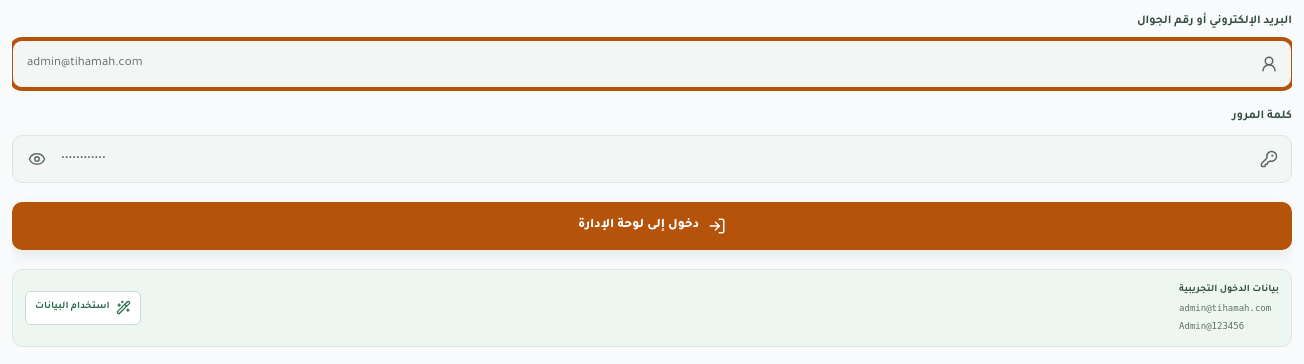
Test: LoginForm › loads fixture credentials and prevents duplicate pending submissions
The image size is (1304, 364).
Click the button "استخدام البيانات". click: (83, 308)
box: x1=25 y1=291 x2=140 y2=325
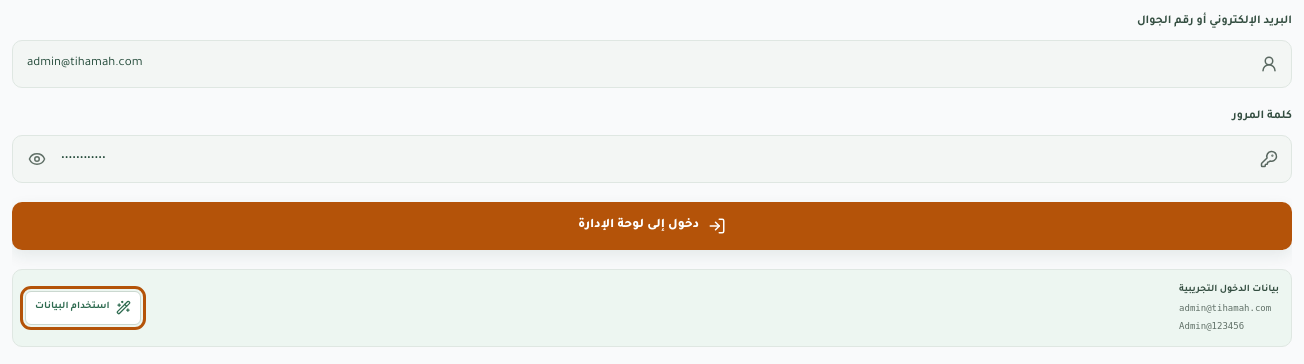
Click the button "دخول إلى لوحة الإدارة". click: (652, 226)
box: x1=12 y1=202 x2=1292 y2=250
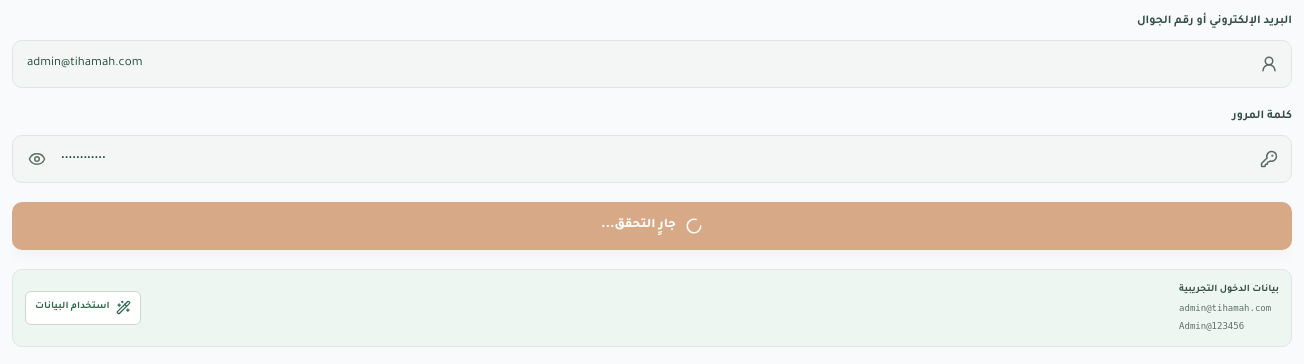
Result: the button "جارٍ التحقق..." is disabled
Click the button "جارٍ التحقق...". click: (652, 226)
box: x1=12 y1=202 x2=1292 y2=250
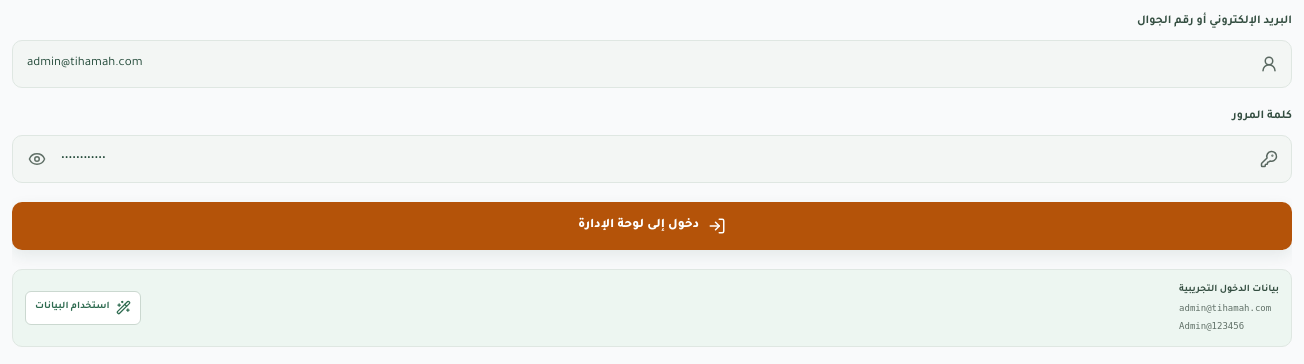
Result: the button "دخول إلى لوحة الإدارة" is enabled at x1=12 y1=202 x2=1292 y2=250
